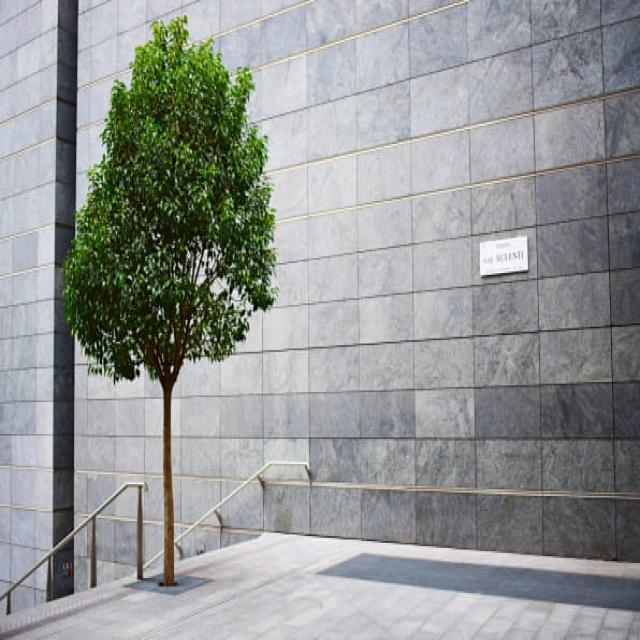tree: (61, 8, 277, 588)
